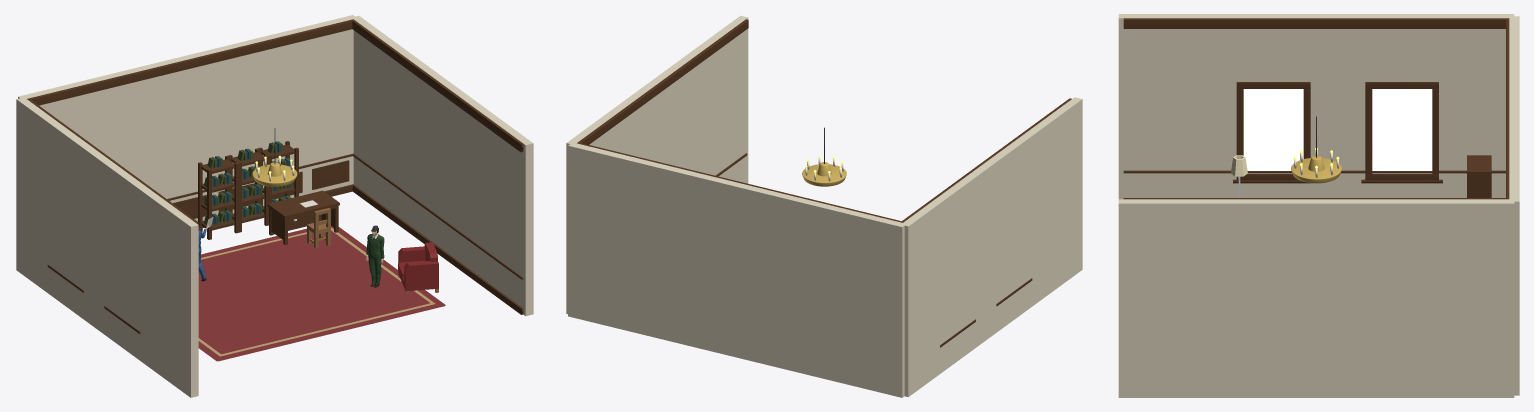
File: hofburg.glb
The picture shows the model from 3 angles, left to right: view 1: azimuth 30°, elevation 25°; view 2: azimuth 150°, elevation 25°; view 3: azimuth 270°, elevation 25°; orthographic projection. The views are drawn at different scales.
Visible parts, largest first — view 1: wall_left, wall_back, wall_right, box.036, box.006, box.034, desk(Clone).001, box.008, loungeChair(Clone).001, bookcaseOpen(Clone).001, box.002, bookcaseOpen(Clone).002 (+8 smaller); view 2: wall_back, wall_left, wall_right, box.008, box.006, cyl.001, box.007; view 3: wall_right, wall_left, pane, pane.001, box.007, wall_back, bookcaseClosedDoors(Clone).001, box.004, cyl.001, box.008, box.006, box.019 (+8 smaller).
Boxes of the visible parts, x1,y1,x2,y2 form: wall_left: (16,98,198,397); wall_back: (18,15,355,221); wall_right: (351,15,533,316); box.036: (198,230,429,354); box.006: (27,19,352,105); box.034: (198,226,445,361); desk(Clone).001: (267,190,339,244); box.008: (352,19,523,152); loungeChair(Clone).001: (398,242,438,294); bookcaseOpen(Clone).001: (198,155,238,239); box.002: (352,184,523,314); bookcaseOpen(Clone).002: (228,148,268,232); wall_back: (568,142,905,397); wall_left: (901,97,1082,397); wall_right: (566,15,748,313); box.008: (577,19,748,144); box.006: (577,143,902,222); cyl.001: (802,164,846,186); box.007: (902,98,1071,222); wall_right: (1118,199,1514,397); wall_left: (1118,14,1514,199); pane: (1372,89,1432,173); pane.001: (1243,89,1303,173); box.007: (1123,18,1508,28); wall_back: (1509,16,1519,395); bookcaseClosedDoors(Clone).001: (1467,155,1491,197); box.004: (1123,170,1505,173); cyl.001: (1291,158,1341,183); box.008: (1123,198,1508,199); box.006: (1506,18,1509,198); box.019: (1365,89,1372,174).
Size of what is drawn, in the model's own units: 10.49 by 5.04 by 9.48.
